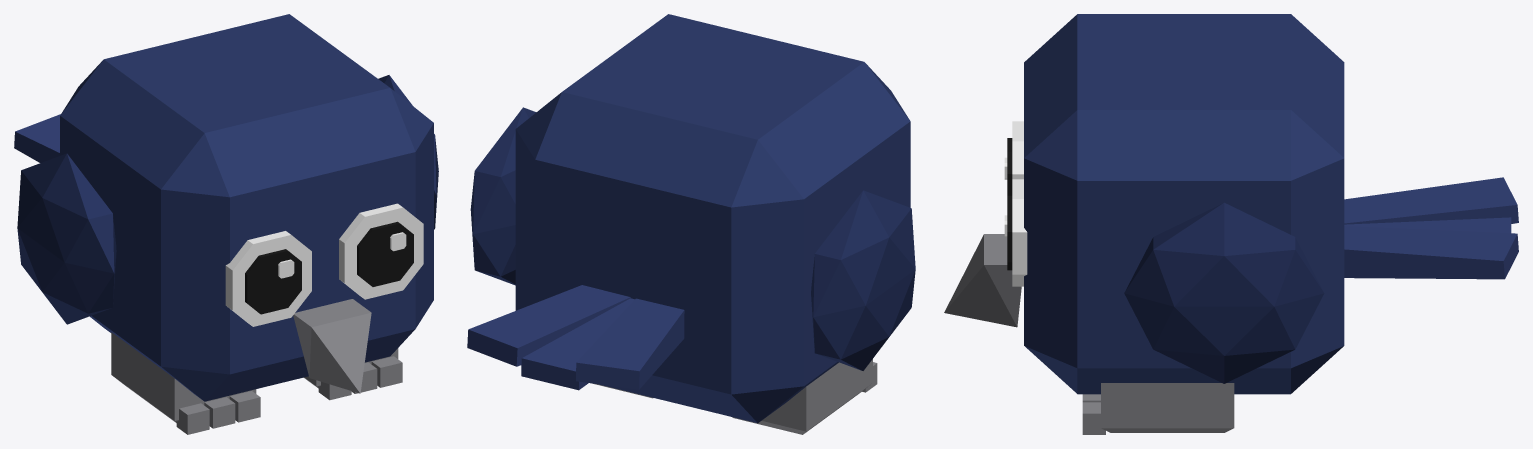
Rendered from Raven.fbx.
3 renders of one model, left to right at view 1: azimuth 30°, elevation 25°; view 2: azimuth 150°, elevation 25°; view 3: azimuth 270°, elevation 25°, orthographic. The views are drawn at different scales.
Parts seen in each view (by area): view 1: Raven, Raven_Wings, Raven_BeakFeet, Raven_Eyes, Raven_Pupils, Raven_Tail; view 2: Raven, Raven_Wings, Raven_Tail, Raven_BeakFeet; view 3: Raven, Raven_Wings, Raven_Tail, Raven_BeakFeet, Raven_Eyes, Raven_Pupils.
Part boxes in pixels (<box>): Raven: <box>60,14,433,401</box>; Raven_Wings: <box>17,75,438,324</box>; Raven_BeakFeet: <box>111,299,402,434</box>; Raven_Eyes: <box>225,203,423,326</box>; Raven_Pupils: <box>245,221,413,314</box>; Raven_Tail: <box>14,114,60,162</box>; Raven: <box>515,14,910,423</box>; Raven_Wings: <box>470,107,915,370</box>; Raven_Tail: <box>467,285,684,390</box>; Raven_BeakFeet: <box>593,359,877,434</box>; Raven: <box>1024,14,1344,394</box>; Raven_Wings: <box>1124,202,1324,383</box>; Raven_Tail: <box>1344,177,1518,279</box>; Raven_BeakFeet: <box>944,234,1234,434</box>; Raven_Eyes: <box>1004,121,1027,286</box>; Raven_Pupils: <box>1007,138,1012,270</box>.
Size of the model in its own units: 2.74 by 2.1 by 3.45.
